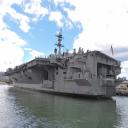Portanaves: (4, 28, 125, 101)
